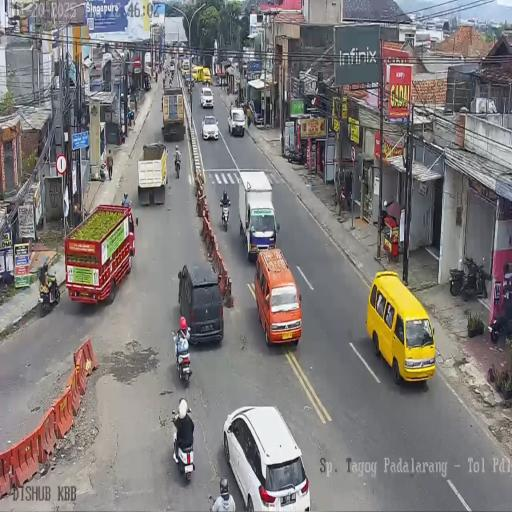car: (222, 406, 309, 510), (366, 270, 436, 384), (254, 248, 302, 345), (178, 263, 224, 346), (228, 107, 246, 137), (201, 114, 219, 140), (246, 99, 263, 126), (200, 86, 214, 108), (202, 67, 211, 84), (191, 65, 200, 81), (169, 58, 175, 72)
motorcycle: (450, 254, 488, 301), (172, 409, 194, 480), (489, 287, 512, 343), (172, 327, 193, 383), (38, 271, 60, 317), (284, 143, 305, 165), (220, 198, 230, 231), (174, 154, 181, 178), (188, 83, 194, 101), (169, 75, 173, 88), (163, 76, 166, 89)
truck: (64, 202, 137, 306), (240, 170, 277, 262), (137, 142, 168, 206), (162, 86, 186, 142), (181, 57, 190, 76), (144, 52, 151, 73)
